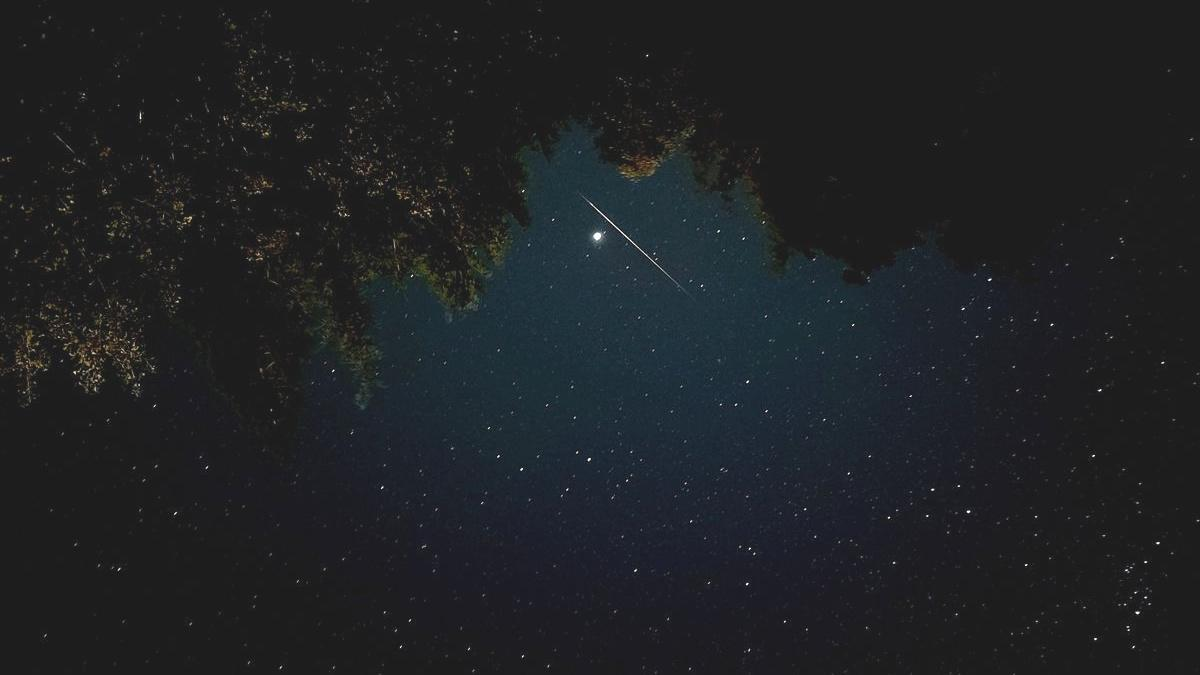meteorite: (572, 173, 737, 315)
